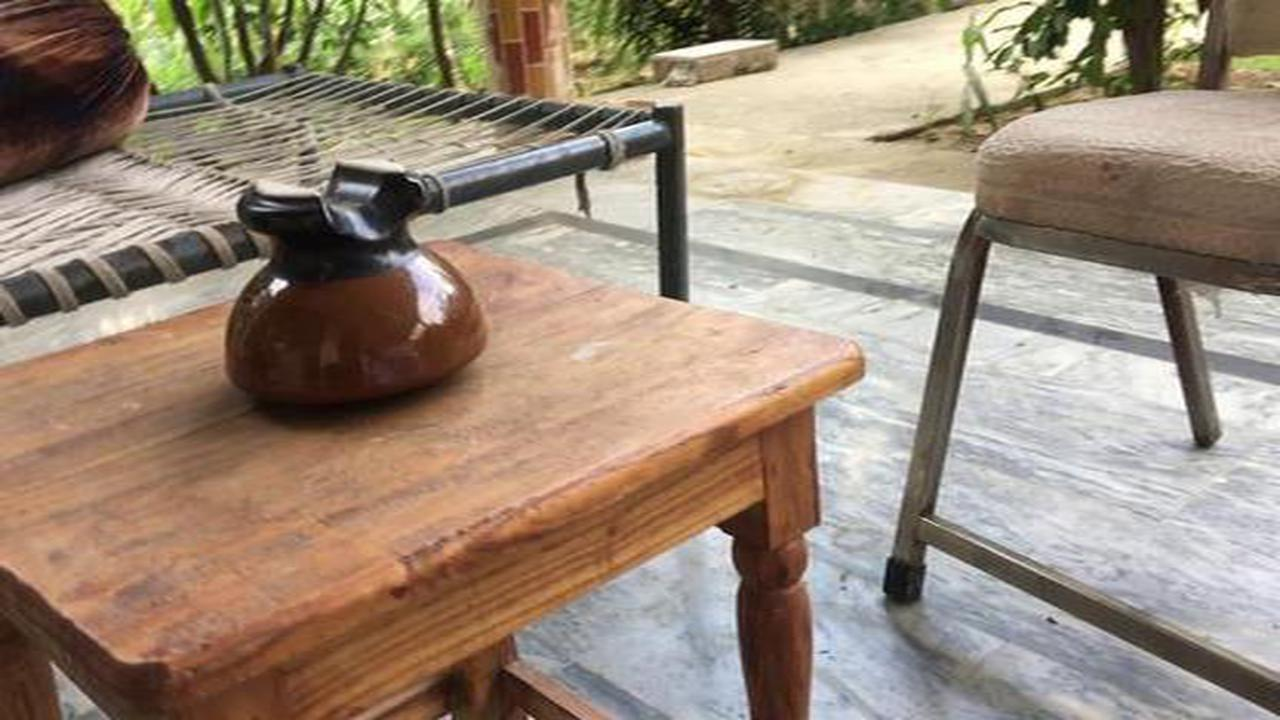insulator_pin: (201, 148, 493, 426)
